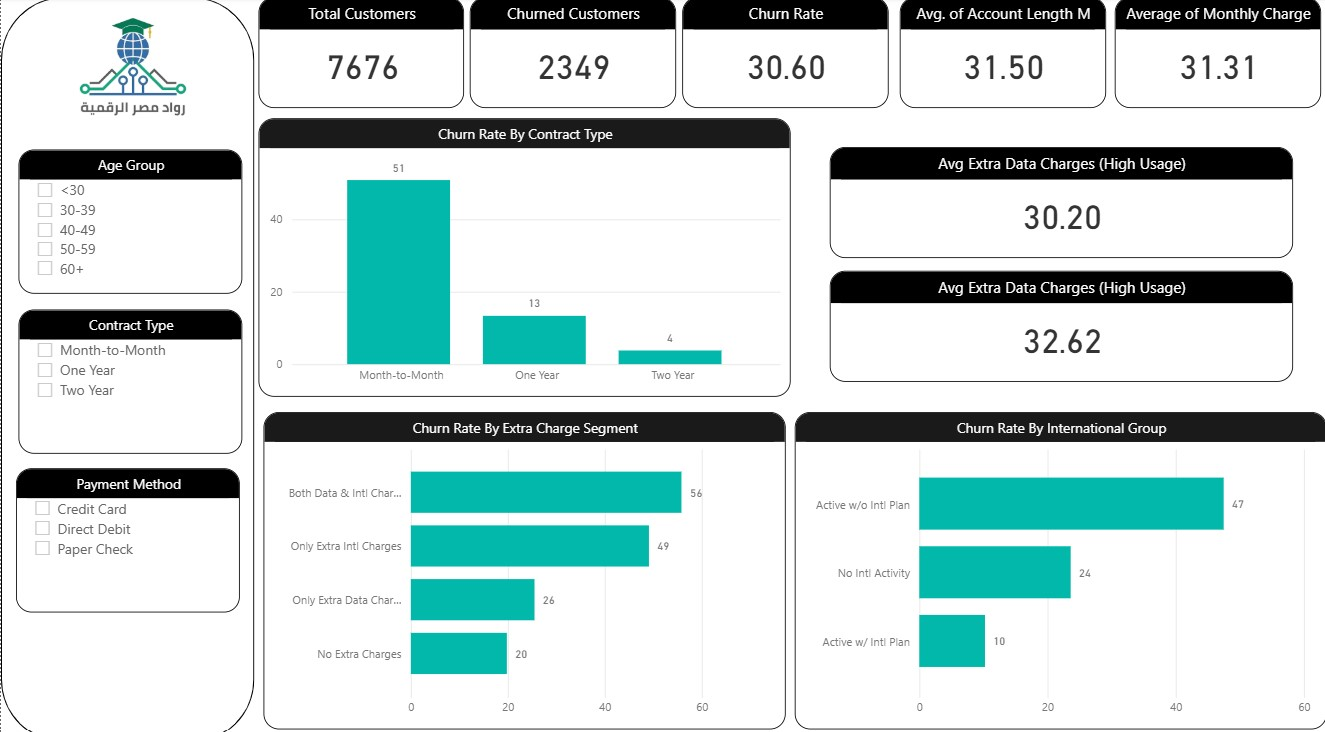

The page's visual inventory and layout, read from the dashboard file:
{"tool":"powerbi","page":{"name":"page4","canvas":[1280,720],"ordinal":4},"visuals":[{"type":"card","title":"Total Customers","fields":{"Values":["Table of measures.Total Customers"]},"box":[248.1,0,198.8,107.4],"z":0},{"type":"card","title":"Churned Customers","fields":{"Values":["Table of measures.Churned Customers"]},"box":[452.3,0,198.9,107.6],"z":1000},{"type":"card","title":"Churn Rate","fields":{"Values":["Table of measures.Churn Rate"]},"box":[657.9,0,198.9,107.6],"z":2000},{"type":"card","title":"Avg. of Account Length M","fields":{"Values":["Avg(SkyLink - Dataset.Account Length (in months))"]},"box":[867.8,0,198.9,107.6],"z":3000},{"type":"card","title":"Average of Monthly Charge","fields":{"Values":["Avg(SkyLink - Dataset.Monthly Charge)"]},"box":[1075.5,0,198.9,107.6],"z":4000},{"type":"shape","box":[0,0,244.4,719.8],"z":5000},{"type":"clusteredColumnChart","title":"Churn Rate By Contract Type","fields":{"Y":["Table of measures.Churn Rate"],"Category":["SkyLink - Dataset.Contract Type"]},"box":[248.1,117.3,513.6,269.1],"z":6000},{"type":"clusteredBarChart","title":"Churn Rate By International Group","fields":{"Category":["SkyLink - Dataset.International Group"],"Y":["Table of measures.Churn Rate"]},"box":[766.7,400,513.6,306.2],"z":7000},{"type":"clusteredBarChart","title":"Churn Rate By Extra Charge Segment","fields":{"Y":["Table of measures.Churn Rate"],"Category":["SkyLink - Dataset.Extra Charge Segment"]},"box":[253.1,400,503.7,306.2],"z":8000},{"type":"image","box":[29.6,0,191.4,146.9],"z":9000},{"type":"slicer","title":"Age Group","fields":{"Values":["SkyLink - Dataset.Age Group"]},"box":[17.3,146.9,216.1,139.5],"z":10000},{"type":"slicer","title":"Contract Type","fields":{"Values":["SkyLink - Dataset.Contract Type"]},"box":[17.3,301.2,216.1,139.5],"z":11000},{"type":"slicer","title":"Payment Method","fields":{"Values":["SkyLink - Dataset.Payment Method"]},"box":[14.8,454.3,216.1,139.5],"z":12000},{"type":"card","title":"Avg Extra Data Charges (High Usage)","fields":{"Values":["Table of measures.Avg Extra Data Charges (High Usage)"]},"box":[800,144.4,446.9,107.4],"z":13000},{"type":"card","title":"Avg Extra Data Charges (High Usage)","fields":{"Values":["Table of measures.Churn Rate (High Usage)"]},"box":[800,264.2,446.9,107.4],"z":14000}]}

Visuals, with their boxes in screenshot pixels (x1, y1, x2, y2), scaled from the page's 1280x720 canvas onto the 1325x732 screenshot:
"Total Customers" card: <region>257, 0, 463, 109</region>
"Churned Customers" card: <region>468, 0, 674, 109</region>
"Churn Rate" card: <region>681, 0, 887, 109</region>
"Avg. of Account Length M" card: <region>898, 0, 1104, 109</region>
"Average of Monthly Charge" card: <region>1113, 0, 1319, 109</region>
shape: <region>0, 0, 253, 731</region>
"Churn Rate By Contract Type" clusteredColumnChart: <region>257, 119, 788, 393</region>
"Churn Rate By International Group" clusteredBarChart: <region>794, 407, 1324, 718</region>
"Churn Rate By Extra Charge Segment" clusteredBarChart: <region>262, 407, 783, 718</region>
image: <region>31, 0, 229, 149</region>
"Age Group" slicer: <region>18, 149, 242, 291</region>
"Contract Type" slicer: <region>18, 306, 242, 448</region>
"Payment Method" slicer: <region>15, 462, 239, 604</region>
"Avg Extra Data Charges (High Usage)" card: <region>828, 147, 1291, 256</region>
"Avg Extra Data Charges (High Usage)" card: <region>828, 269, 1291, 378</region>
